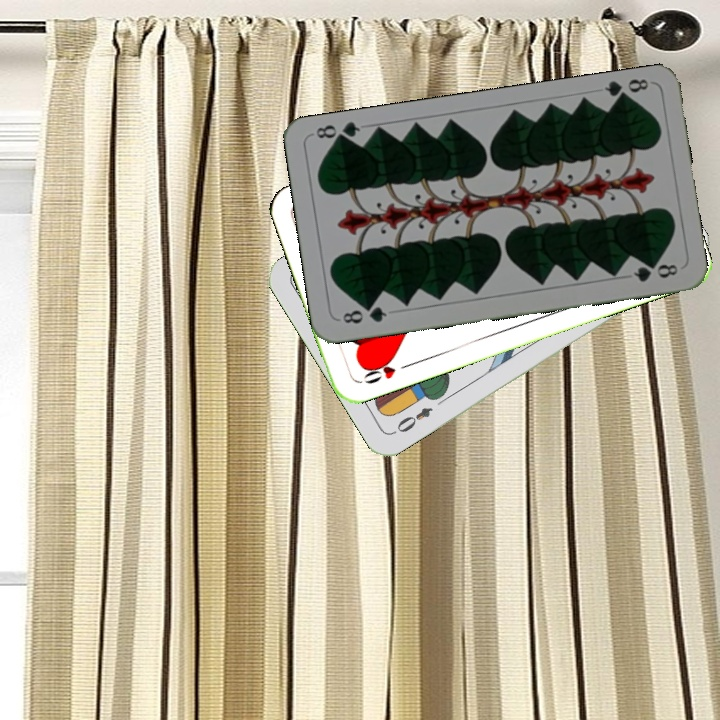EO: (392, 403, 436, 436)
G8: (600, 74, 651, 105), (338, 301, 390, 327)
HO: (359, 354, 413, 387)
